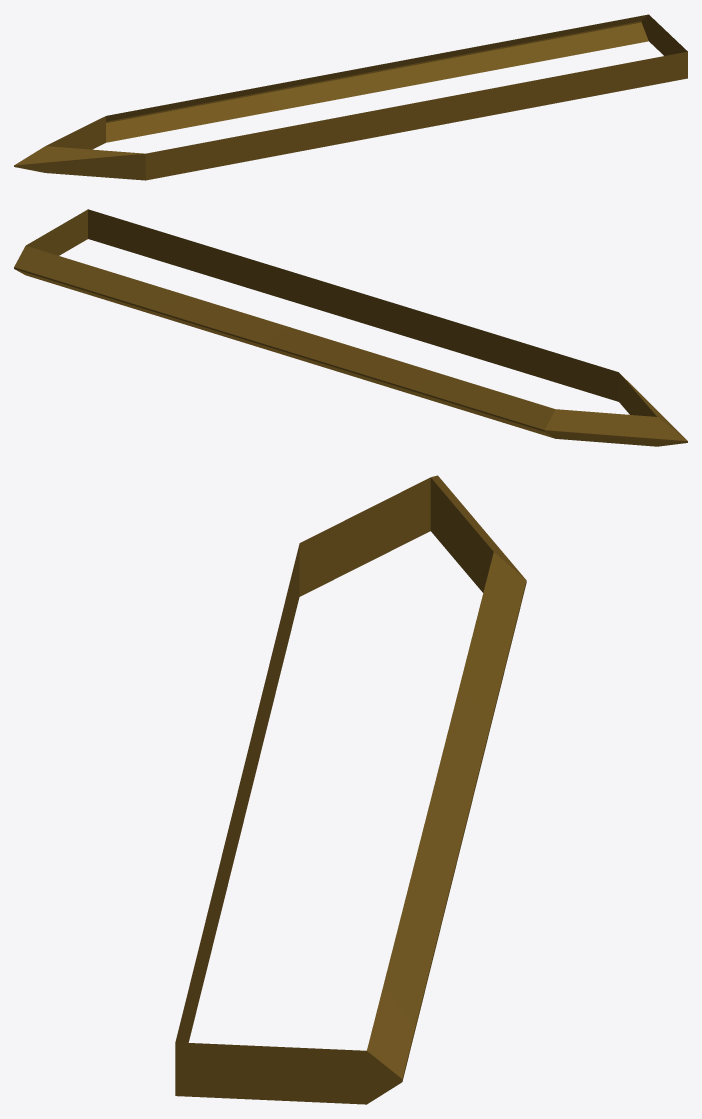
Rendered from original-45.obj.
The picture shows the model from 3 angles, top to bottom: view 1: azimuth 30°, elevation 25°; view 2: azimuth 150°, elevation 25°; view 3: azimuth 270°, elevation 25°; orthographic projection. The views are drawn at different scales.
Visible parts, largest first — view 1: #ID327; view 2: #ID327; view 3: #ID327.
Boxes of the visible parts, bbox=[...] form: #ID327: bbox=[14, 14, 687, 180]; #ID327: bbox=[14, 209, 687, 446]; #ID327: bbox=[175, 475, 526, 1104].
Bounding box in the file's own units: 1.11 × 0.0461 × 0.2727.
